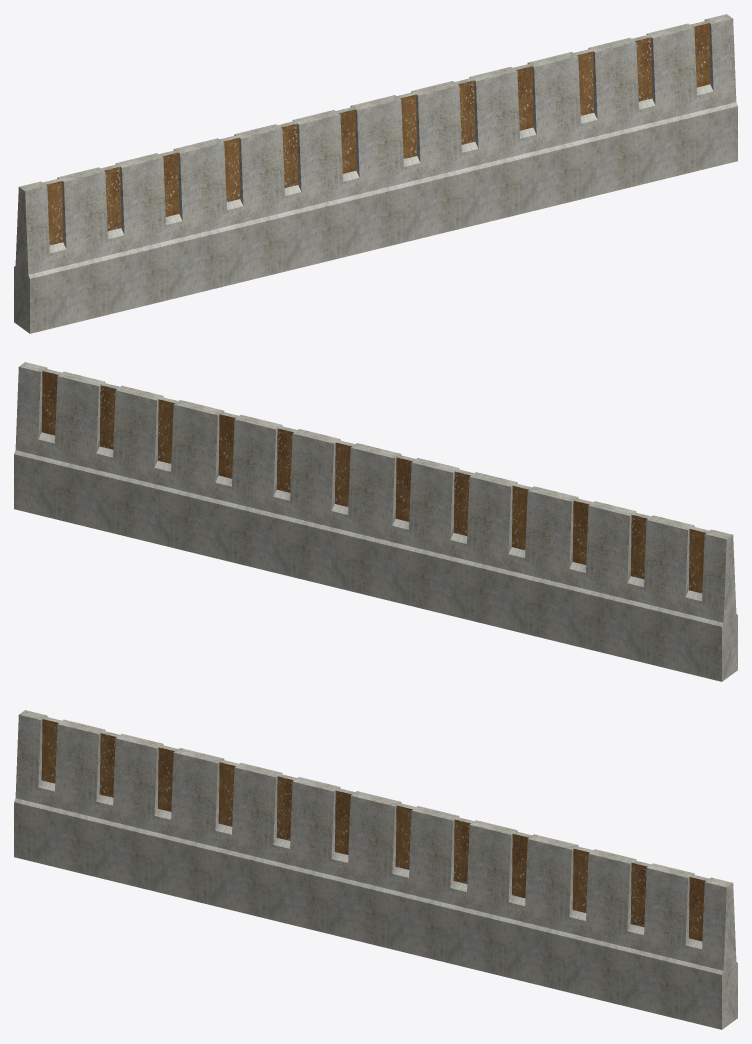
The model's file is mun_all_military_wall_weak_rebl_32_s01_l0.fbx.
The picture shows the model from 3 angles, top to bottom: view 1: azimuth 30°, elevation 25°; view 2: azimuth 150°, elevation 25°; view 3: azimuth 330°, elevation 25°; orthographic projection.
Visible parts, largest first — view 1: mesh_node; view 2: mesh_node; view 3: mesh_node.
Boxes of the visible parts, x1=… form: mesh_node: x1=14, y1=14, x2=737, y2=333; mesh_node: x1=14, y1=362, x2=737, y2=681; mesh_node: x1=14, y1=710, x2=737, y2=1029.
Bounding box in the file's own units: 32 × 6 × 1.25.
